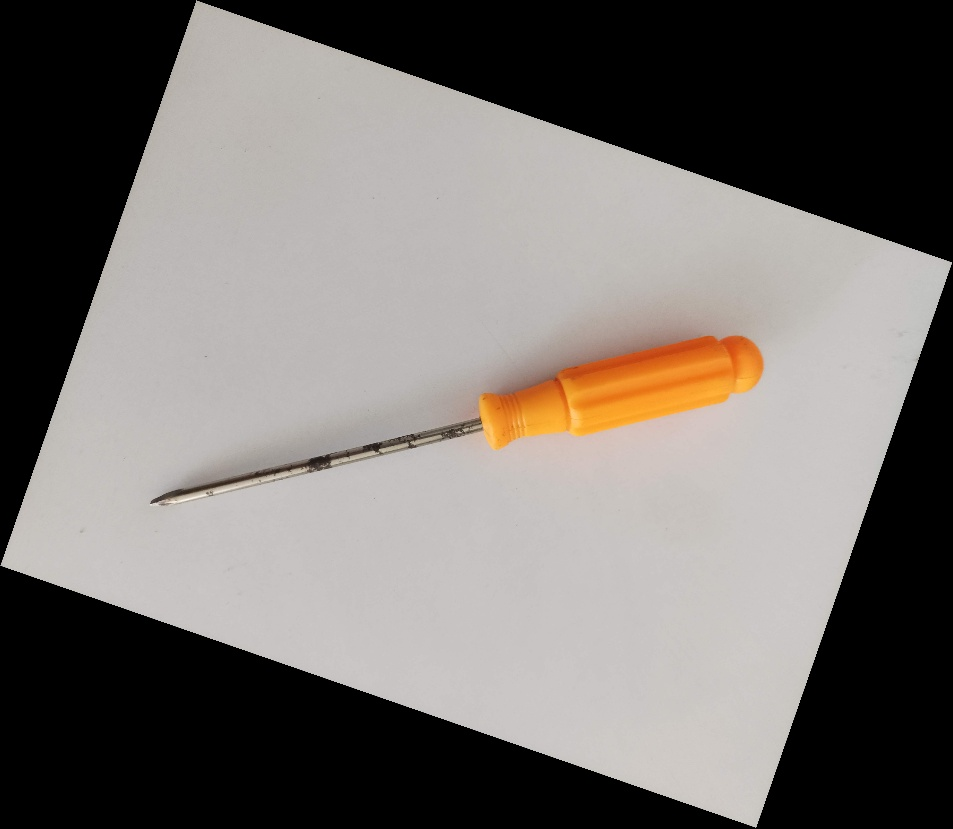screwdriver: (146, 329, 767, 510)
